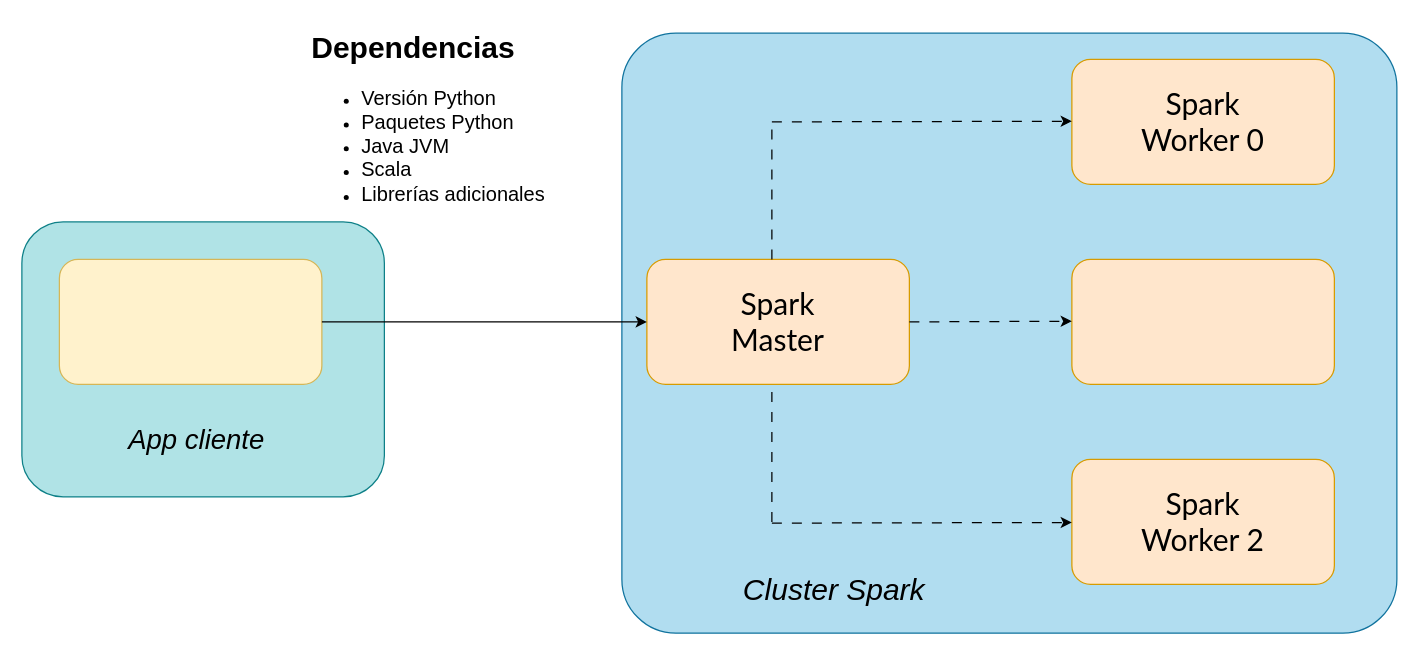
Some shapes in this 1419 by 655 pixel diagram are drawn without their labels. Here are the shapes that lost their labels. From the top down, the centre of each, then its label:
the point at 190,321: Spark Driver
the point at 1202,321: Spark Worker 1
